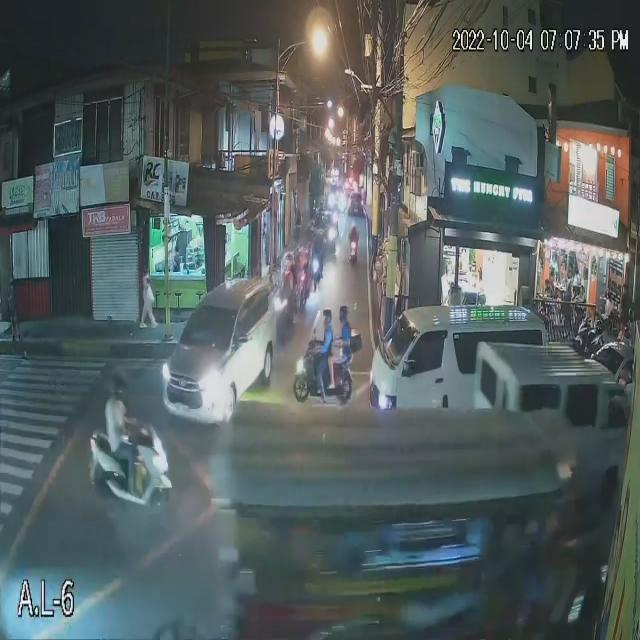helmet: (104, 367, 132, 399), (319, 307, 332, 327), (337, 304, 350, 324)
motorcycle: (88, 422, 173, 509), (292, 353, 362, 407), (348, 242, 359, 266)
rider: (101, 403, 145, 490), (307, 328, 337, 399), (331, 327, 356, 394), (349, 225, 360, 244)
